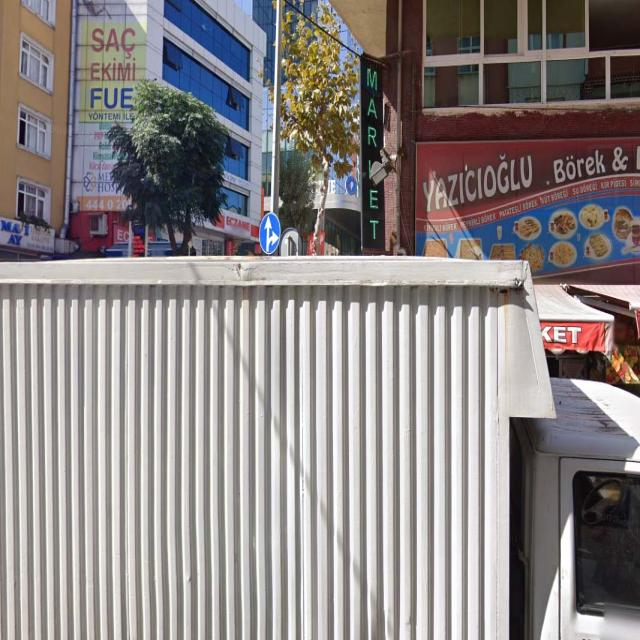ilerisag: (258, 213, 280, 254)
